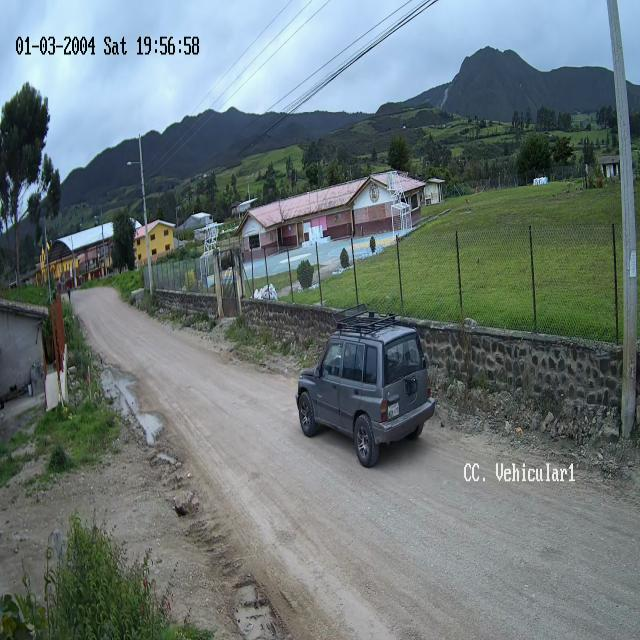SUV: (296, 326, 435, 468)
